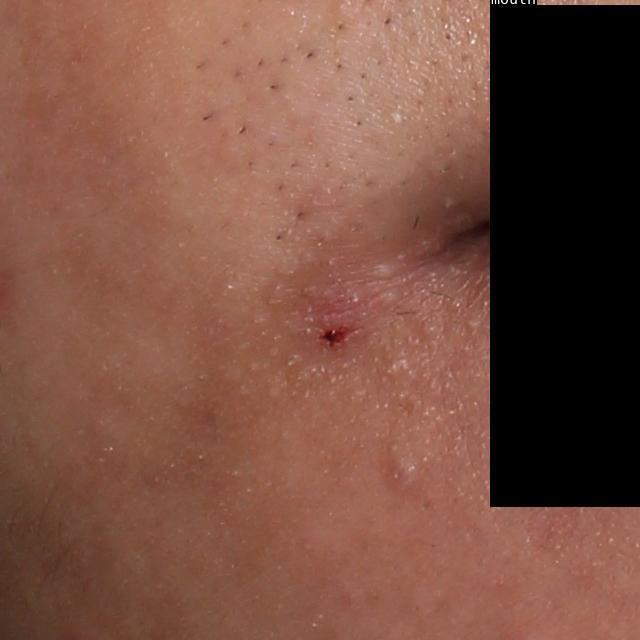comedo: (378, 450, 437, 506)
